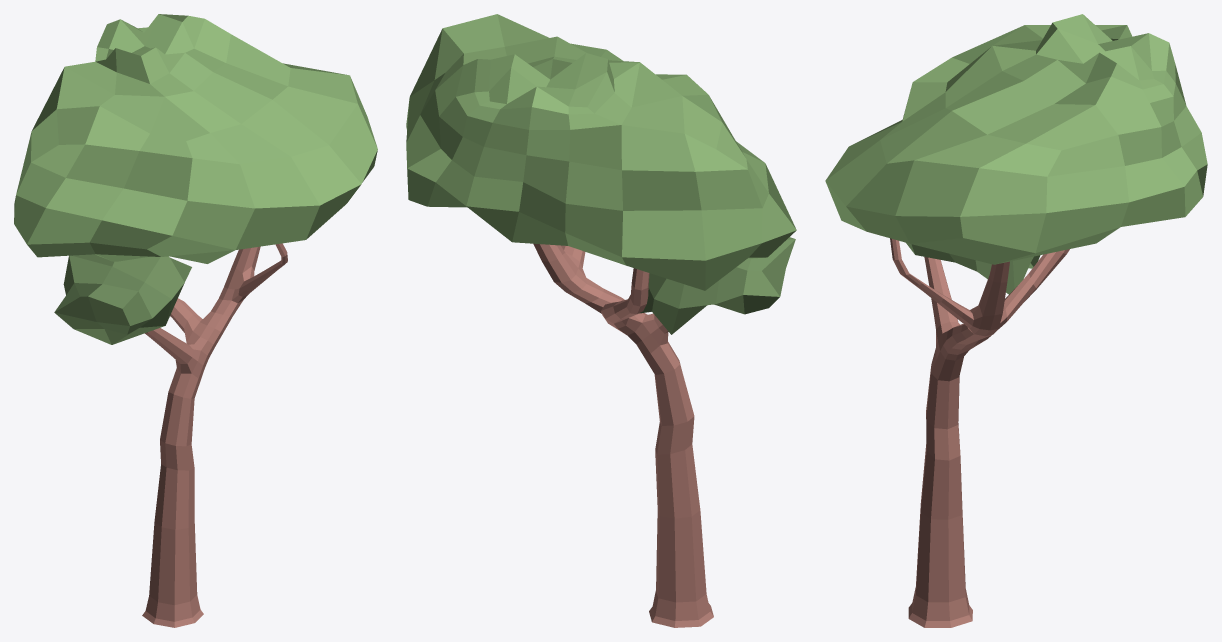
The model's file is apple_bare.glb.
The picture shows the model from 3 angles, left to right: view 1: azimuth 30°, elevation 25°; view 2: azimuth 150°, elevation 25°; view 3: azimuth 270°, elevation 25°; orthographic projection. The views are drawn at different scales.
Visible parts, largest first — view 1: Apple_Harvested; view 2: Apple_Harvested; view 3: Apple_Harvested.
Boxes of the visible parts, x1,y1,x2,y2 form: Apple_Harvested: (14, 14, 377, 627); Apple_Harvested: (406, 14, 796, 627); Apple_Harvested: (825, 14, 1207, 627).
Bounding box in the file's own units: 1.8 × 2.76 × 1.58.
